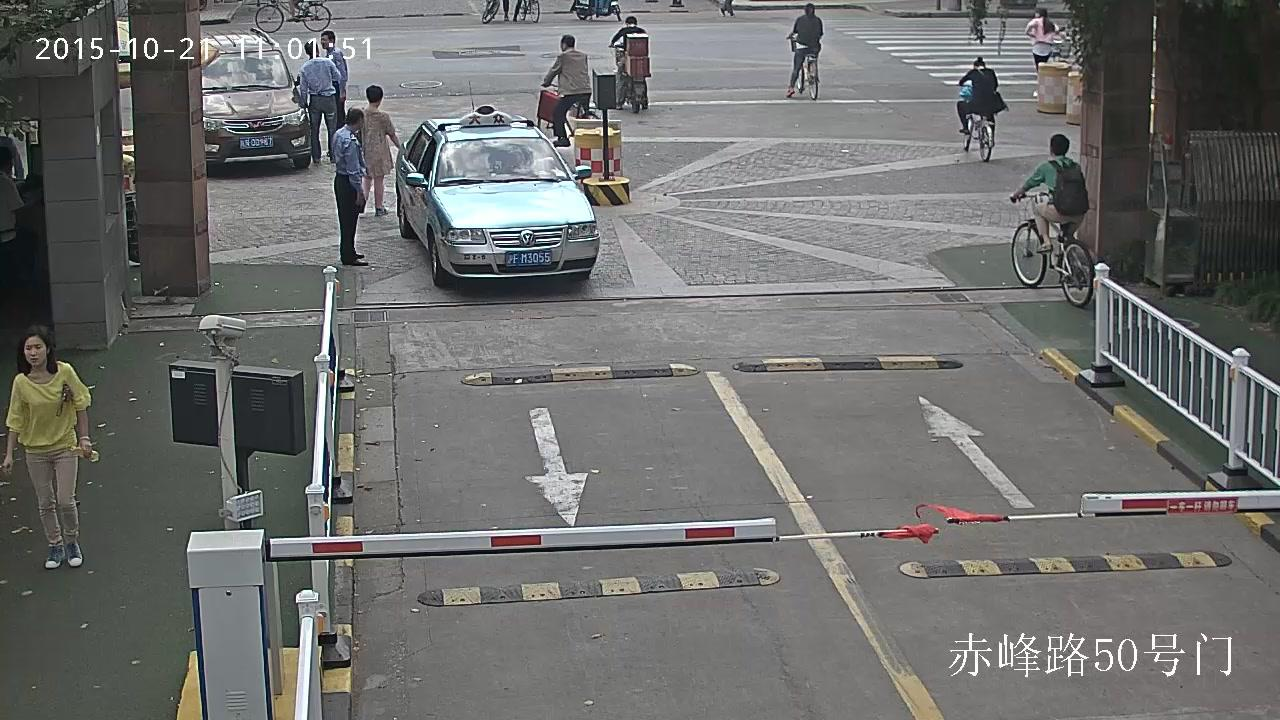person: (1, 325, 99, 569), (1009, 133, 1095, 308), (1012, 133, 1090, 282), (536, 33, 599, 147), (357, 83, 401, 217), (0, 146, 43, 281), (299, 40, 346, 163), (332, 108, 368, 265), (542, 34, 592, 147), (956, 56, 1009, 162), (956, 57, 1009, 147), (607, 15, 650, 113), (609, 15, 648, 110), (786, 3, 823, 99), (786, 3, 823, 97), (321, 30, 348, 156), (1024, 7, 1056, 95), (254, 0, 332, 33), (967, 0, 992, 44), (967, 0, 992, 34), (286, 0, 306, 21)
